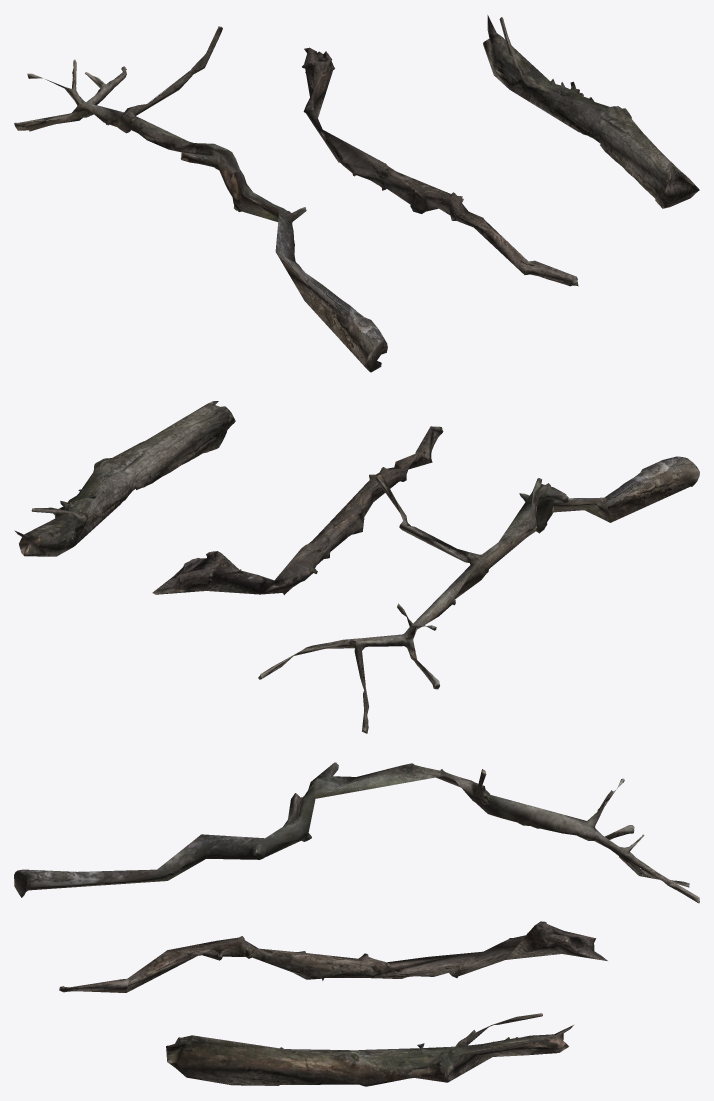
The model's file is deadfall_branches.glb.
The picture shows the model from 3 angles, top to bottom: view 1: azimuth 30°, elevation 25°; view 2: azimuth 150°, elevation 25°; view 3: azimuth 270°, elevation 25°; orthographic projection. The views are drawn at different scales.
Visible parts, largest first — view 1: branch_a, branch_c, branch_b; view 2: branch_a, branch_c, branch_b; view 3: branch_a, branch_c, branch_b.
Boxes of the visible parts, bbox=[...] form: branch_a: bbox=[14, 26, 387, 372]; branch_c: bbox=[483, 15, 699, 208]; branch_b: bbox=[302, 47, 578, 286]; branch_a: bbox=[258, 456, 699, 733]; branch_c: bbox=[14, 401, 235, 556]; branch_b: bbox=[152, 426, 443, 595]; branch_a: bbox=[14, 762, 699, 903]; branch_c: bbox=[166, 1013, 574, 1086]; branch_b: bbox=[59, 921, 607, 992].
Bounding box in the file's own units: 1.05 × 0.3401 × 1.3.
1 material, 1 textured.
